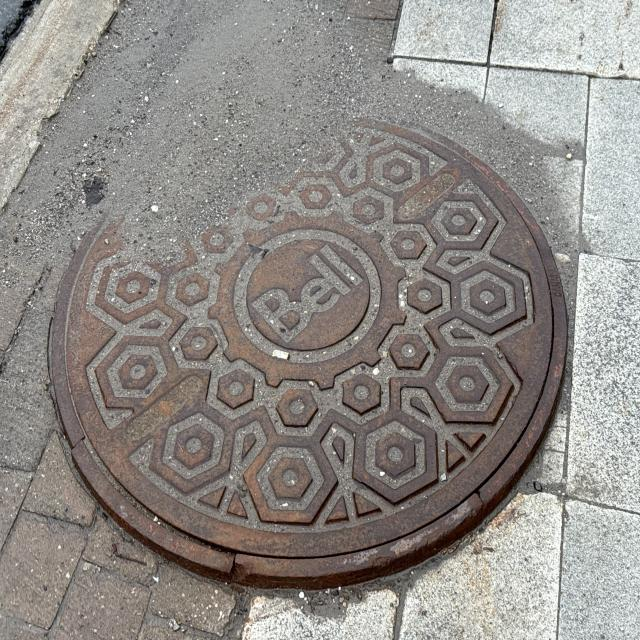Manhole: (54, 126, 564, 584)
